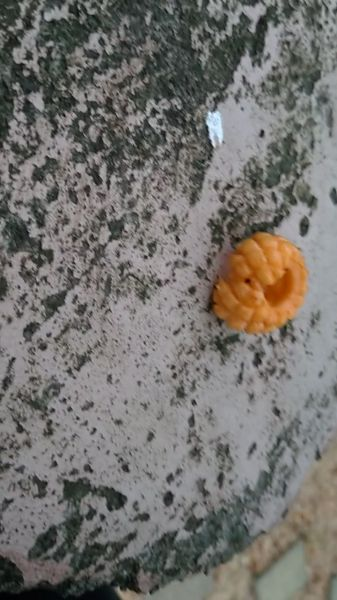eggs: (203, 224, 318, 341)
